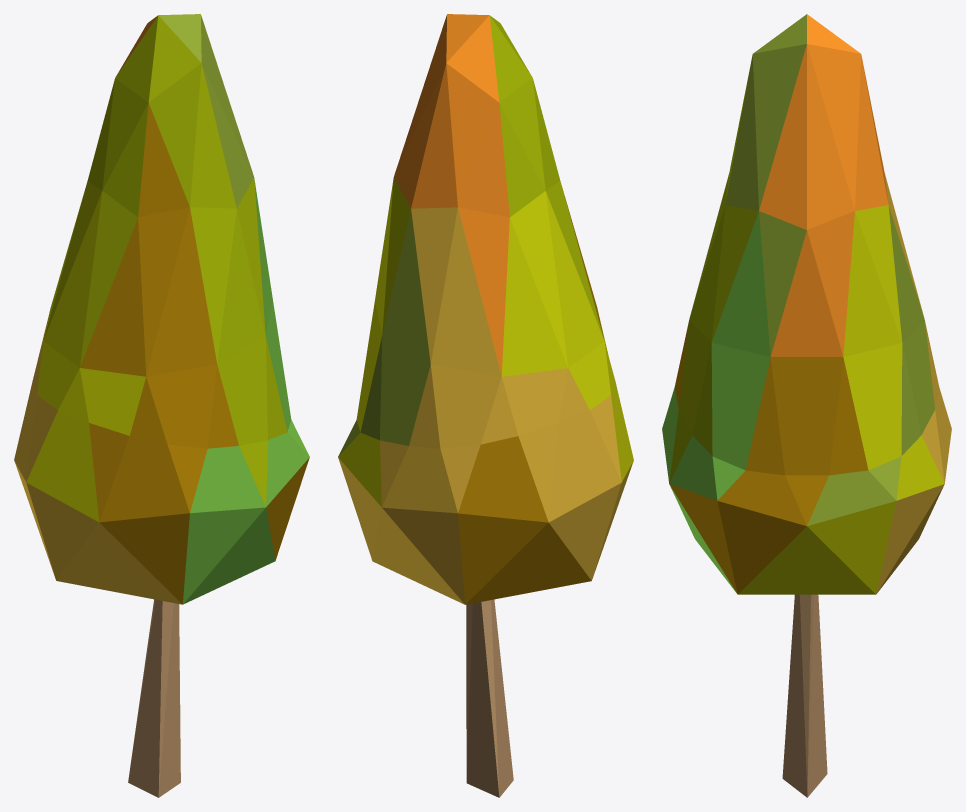
Rendered from Glade_Tree2.fbx.
3 renders of one model, left to right at view 1: azimuth 30°, elevation 25°; view 2: azimuth 150°, elevation 25°; view 3: azimuth 270°, elevation 25°, orthographic.
Parts seen in each view (by area): view 1: Vert.003; view 2: Vert.003; view 3: Vert.003.
Part boxes in pixels (x1,y1,x2,y2): Vert.003: (14,14,309,797); Vert.003: (338,14,633,797); Vert.003: (662,14,951,797).
Size of the model in its own units: 195 by 560 by 190.
